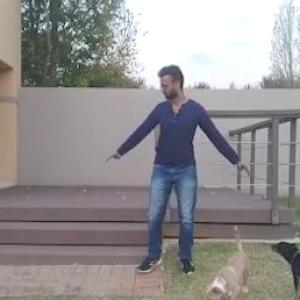land: (120, 60, 263, 268)
